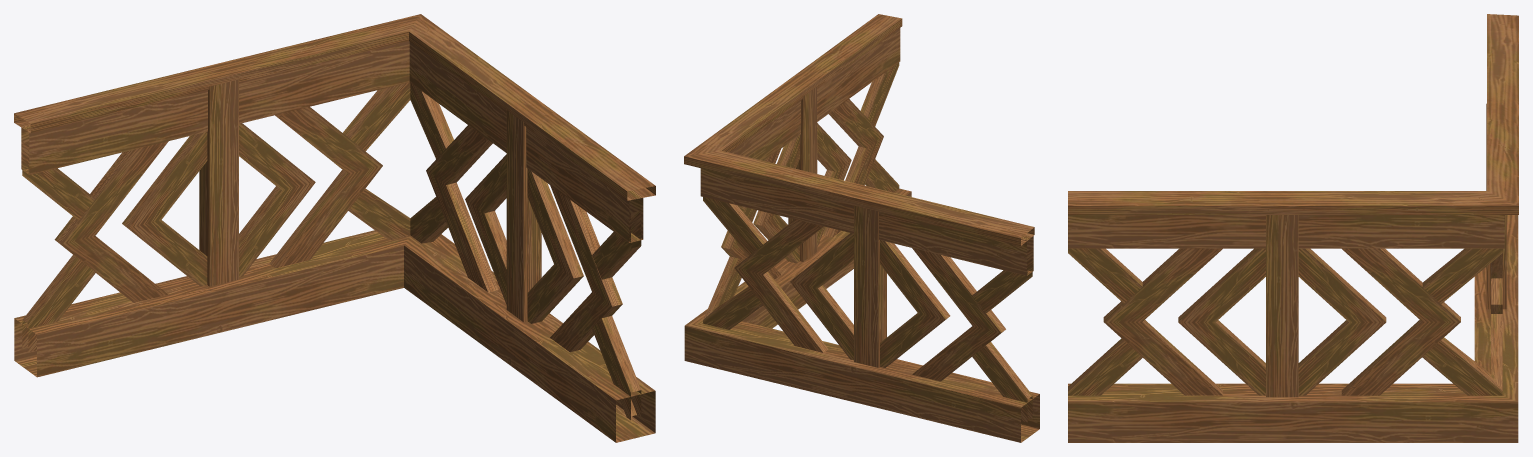
Rendered from Balcony_Cross_Corner.glb.
3 views of the same model, side by side, from view 1: azimuth 30°, elevation 25°; view 2: azimuth 150°, elevation 25°; view 3: azimuth 270°, elevation 25° (orthographic). The views are drawn at different scales.
Parts seen in each view (by area): view 1: Balcony_Cross_Corner; view 2: Balcony_Cross_Corner; view 3: Balcony_Cross_Corner.
Part boxes in pixels (x1=…): Balcony_Cross_Corner: x1=14, y1=14, x2=655, y2=442; Balcony_Cross_Corner: x1=684, y1=14, x2=1039, y2=442; Balcony_Cross_Corner: x1=1068, y1=14, x2=1518, y2=442.
Bounding box in the file's own units: 2.1 × 1.23 × 2.1.
1 material, 1 textured.
